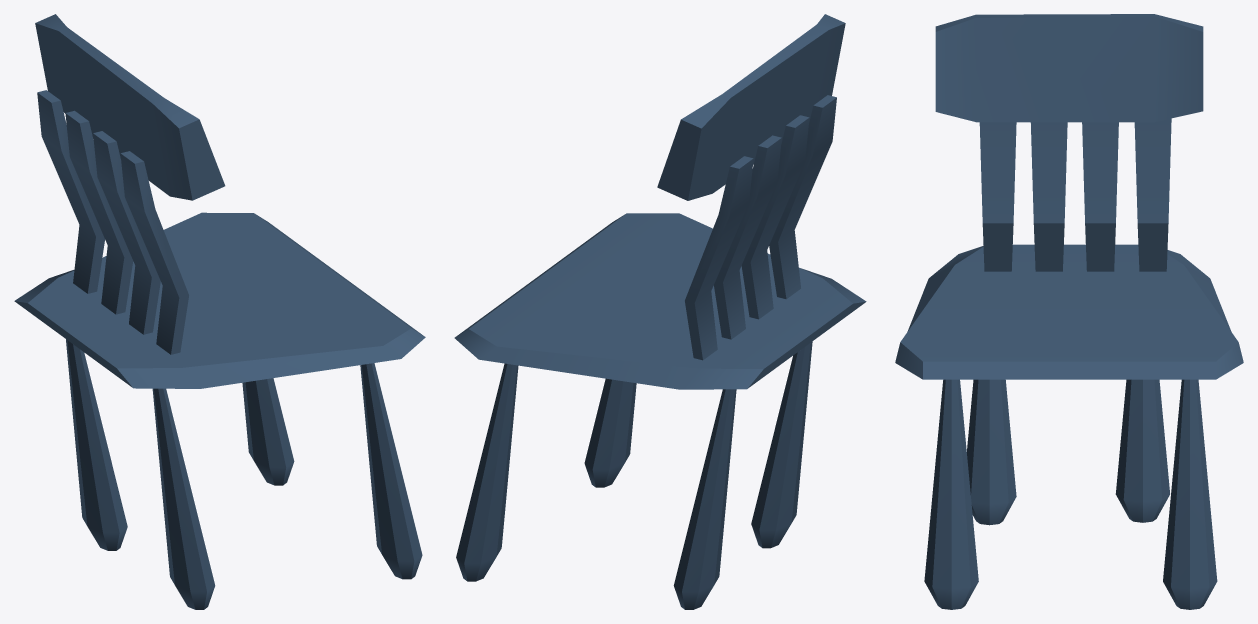
Rendered from Chairsketch.fbx.
3 renders of one model, left to right at view 1: azimuth 30°, elevation 25°; view 2: azimuth 150°, elevation 25°; view 3: azimuth 270°, elevation 25°, orthographic. The views are drawn at different scales.
Parts seen in each view (by area): view 1: Chair_Seat, back, Leg5, Leg1, Leg4, Wood, wood3, wood2, wood1, Leg2; view 2: Chair_Seat, back, Leg4, Leg2, Leg5, wood3, wood2, wood1, Wood, Leg1; view 3: Chair_Seat, back, Leg1, Leg2, Leg4, Leg5, wood3, wood2, Wood, wood1.
Boxes of the visible parts, x1,y1,x2,y2 form: Chair_Seat: [14, 212, 425, 388]; back: [35, 14, 225, 200]; Leg5: [152, 388, 215, 609]; Leg1: [360, 363, 422, 579]; Leg4: [66, 339, 127, 550]; Wood: [120, 151, 188, 354]; wood3: [37, 90, 104, 293]; wood2: [65, 110, 133, 314]; wood1: [93, 131, 160, 334]; Leg2: [242, 378, 294, 485]; Chair_Seat: [454, 213, 866, 389]; back: [657, 14, 845, 200]; Leg4: [673, 389, 736, 609]; Leg2: [456, 363, 518, 581]; Leg5: [751, 341, 812, 548]; wood3: [685, 156, 753, 360]; wood2: [714, 135, 781, 339]; wood1: [741, 115, 809, 319]; Wood: [769, 95, 836, 299]; Leg1: [584, 378, 636, 487]; Chair_Seat: [895, 244, 1243, 379]; back: [935, 14, 1203, 122]; Leg1: [924, 379, 978, 609]; Leg2: [1163, 379, 1217, 609]; Leg4: [1115, 379, 1169, 522]; Leg5: [967, 379, 1016, 525]; wood3: [1134, 118, 1171, 271]; wood2: [1082, 122, 1118, 271]; Wood: [979, 122, 1016, 271]; wood1: [1030, 122, 1067, 271].
Size of the model in its own units: 3.83 by 6.79 by 4.41.
